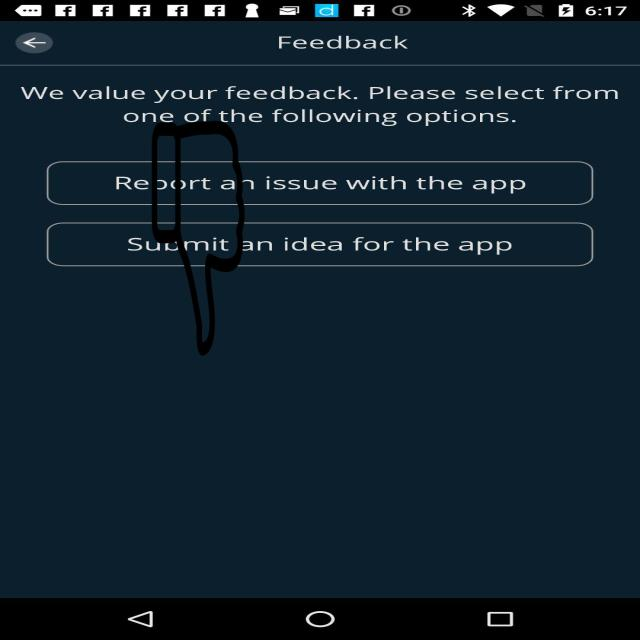obstruction: (150, 120, 246, 356)
